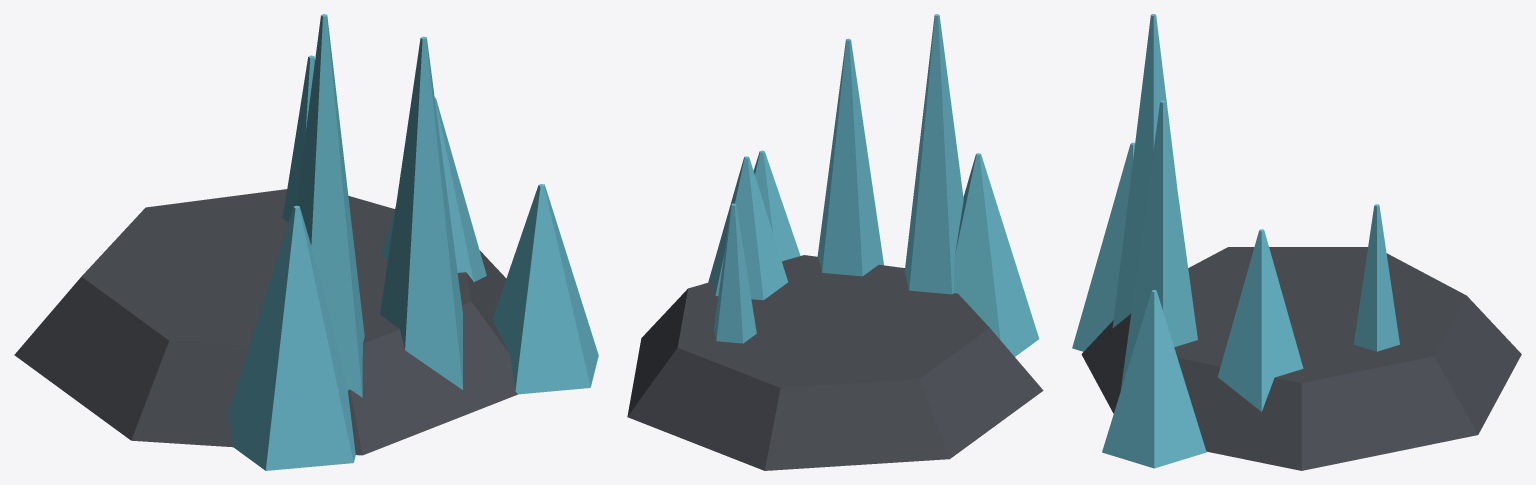
Rendered from crystal-cluster.glb.
The picture shows the model from 3 angles, left to right: view 1: azimuth 30°, elevation 25°; view 2: azimuth 150°, elevation 25°; view 3: azimuth 270°, elevation 25°; orthographic projection. The views are drawn at different scales.
Parts seen in each view (by area): view 1: crystal-cluster; view 2: crystal-cluster; view 3: crystal-cluster.
Part boxes in pixels (<box>): crystal-cluster: <box>14,14,598,470</box>; crystal-cluster: <box>627,14,1043,470</box>; crystal-cluster: <box>1072,14,1521,470</box>.
Size of the model in its own units: 1.52 by 1.33 by 1.59.
